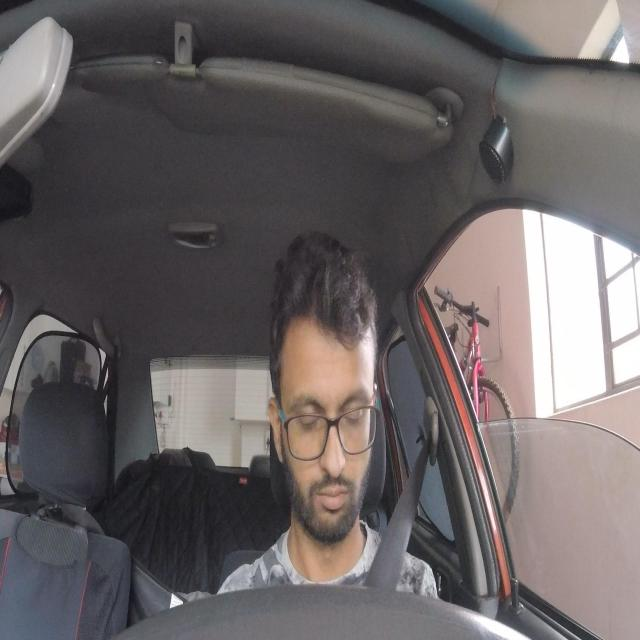close: (340, 387, 369, 434), (295, 393, 320, 439)
